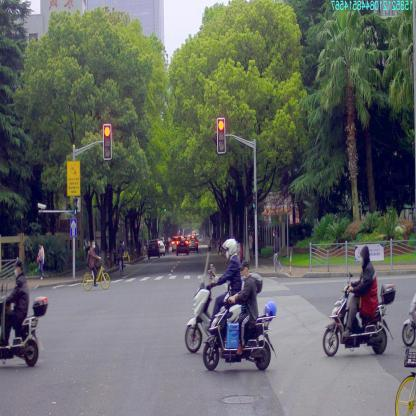traffic-light: (218, 117, 225, 153), (104, 124, 111, 158)
